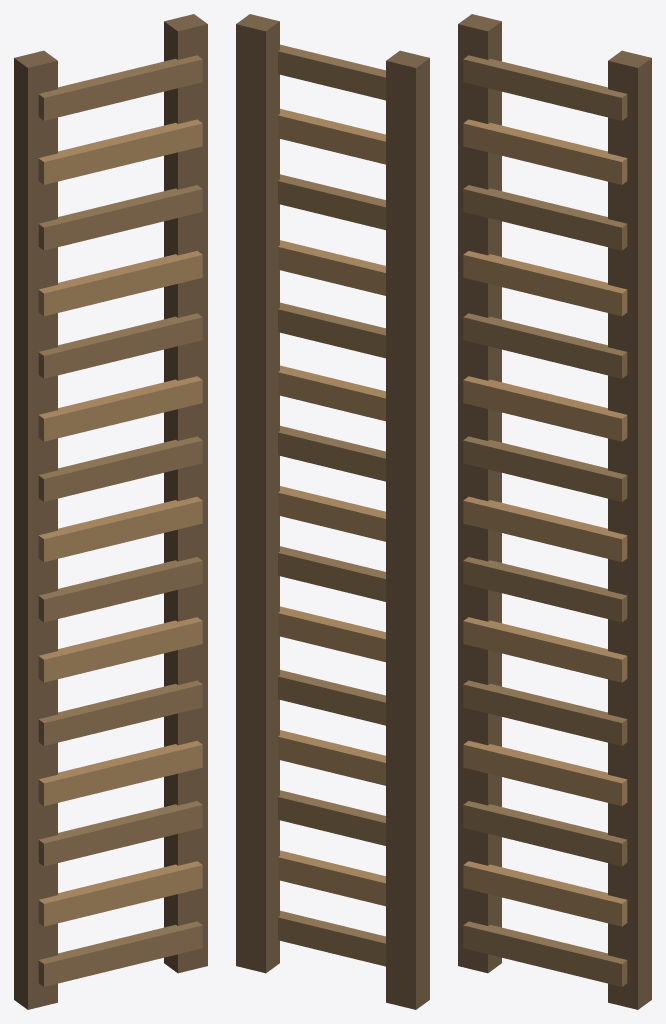
File: SM_Ladder_3m_01_A.fbx
3 views of the same model, side by side, from view 1: azimuth 30°, elevation 25°; view 2: azimuth 150°, elevation 25°; view 3: azimuth 330°, elevation 25° (orthographic).
Visible parts, largest first — view 1: polySurface50; view 2: polySurface50; view 3: polySurface50.
Boxes of the visible parts, x1,y1,x2,y2 form: polySurface50: (14,14,207,1009); polySurface50: (236,14,429,1009); polySurface50: (458,14,651,1009).
Bounding box in the file's own units: 60 × 300 × 11.16.
Materials: 1 (1 with a texture image).
